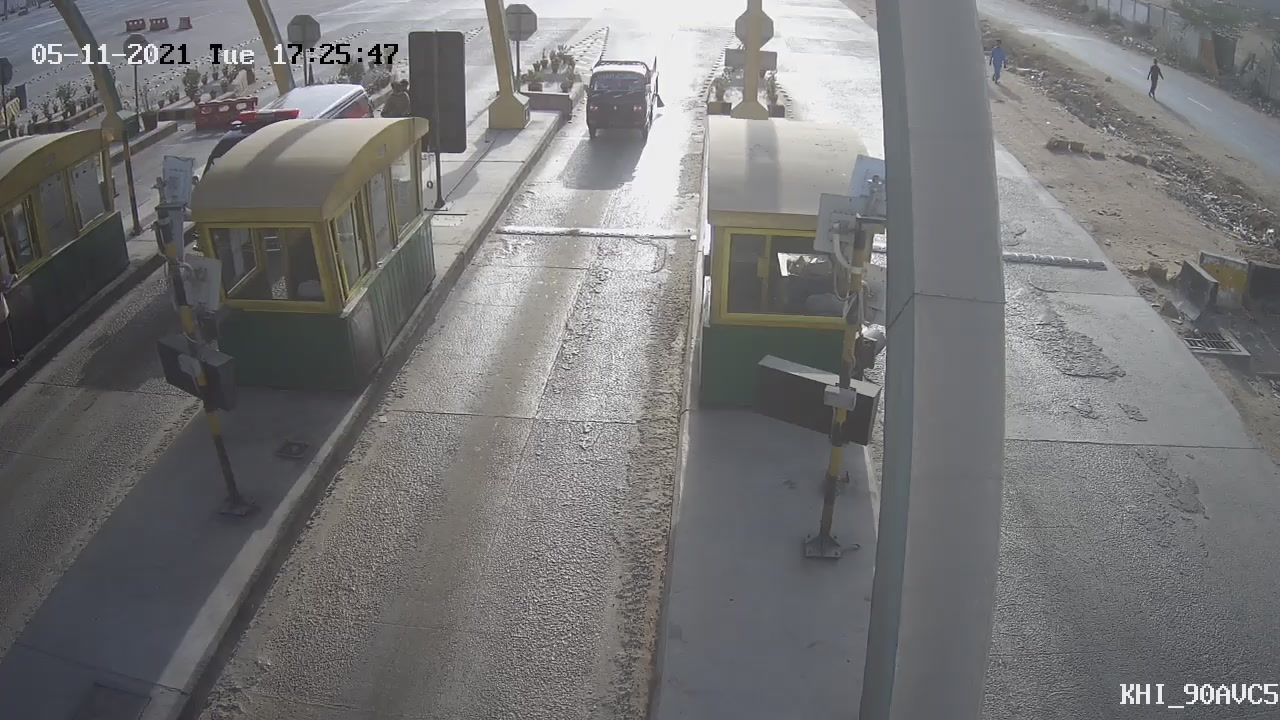F1: (561, 40, 678, 156)
